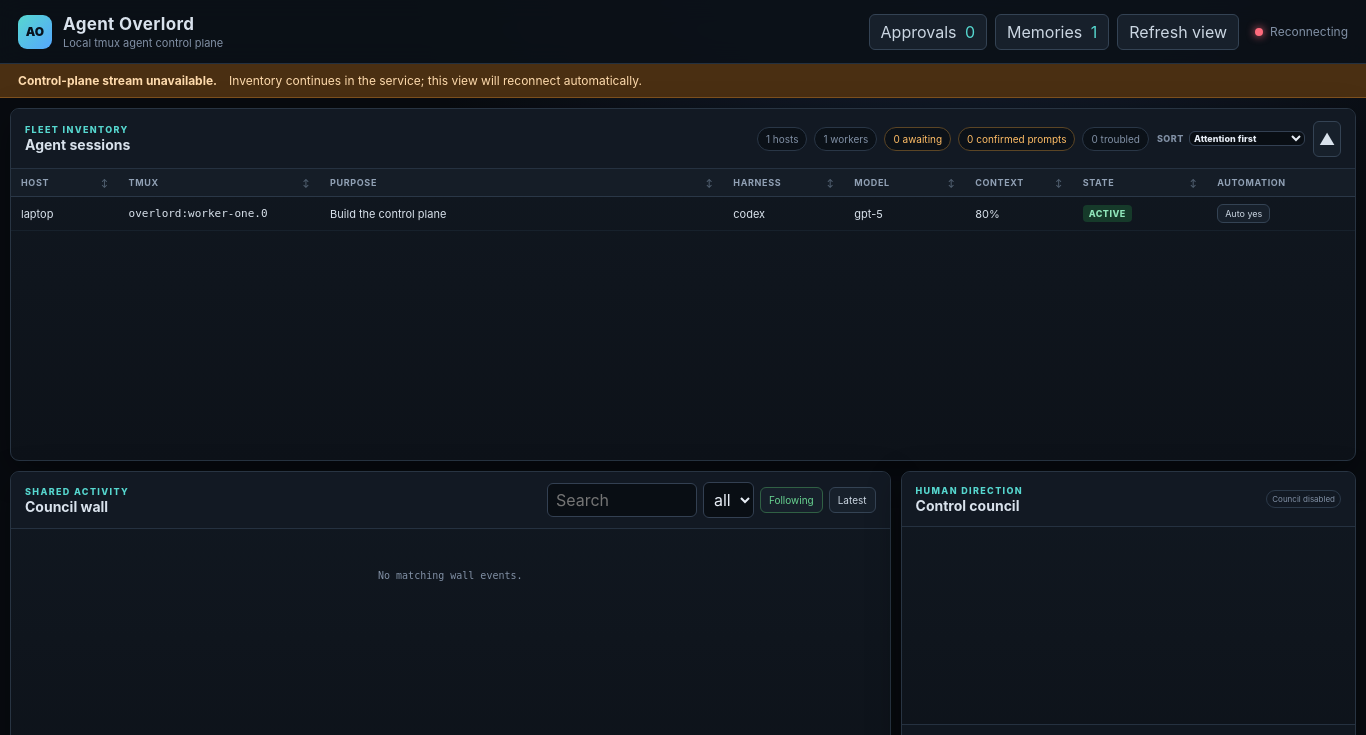
council memory candidates are visible and can be activated
This screenshot has width=1366, height=735.
Click the button "Memories 1" at (1052, 32), box [995,14,1109,50]
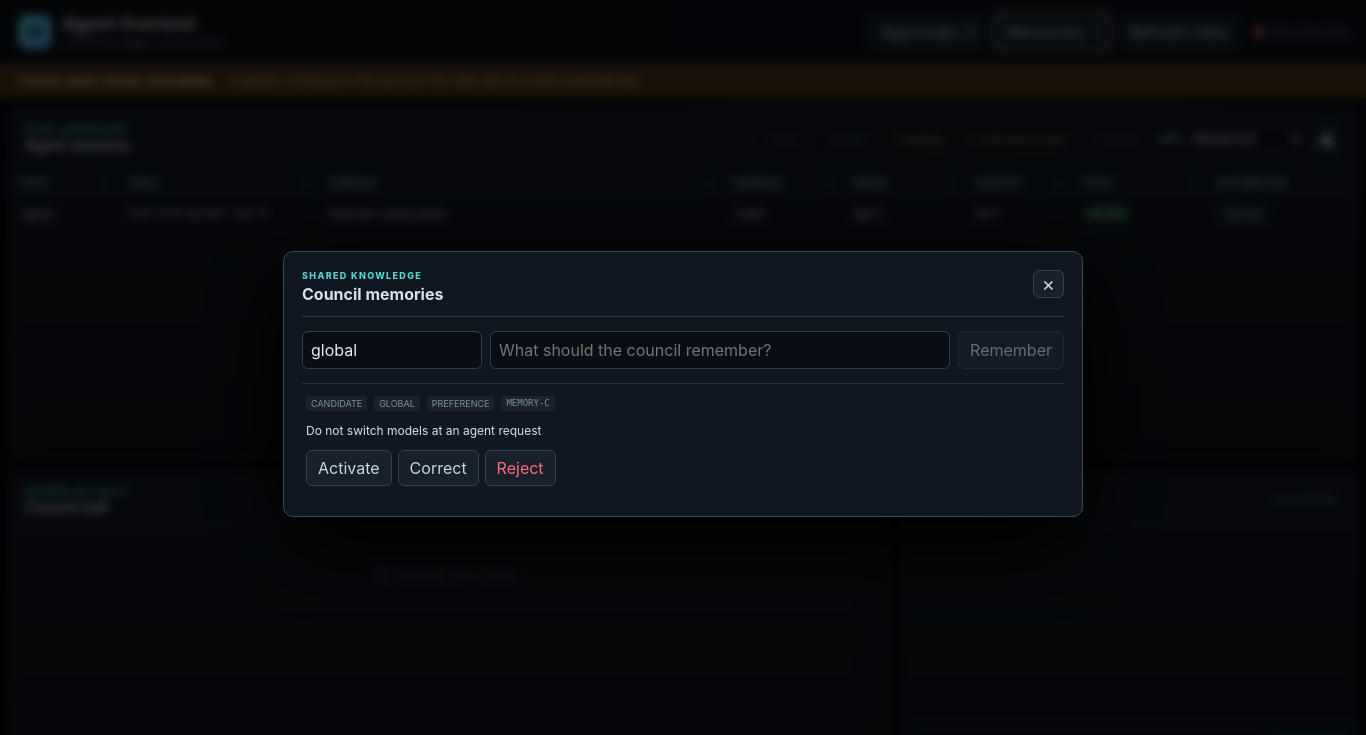
Expected: the dialog "Council memories" shows "candidate", [311,398,362,409]
Expected: the text "Do not switch models at an agent request" is shown, [306,423,541,438]
Click the button "Activate" at (349, 468), box [306,450,392,486]
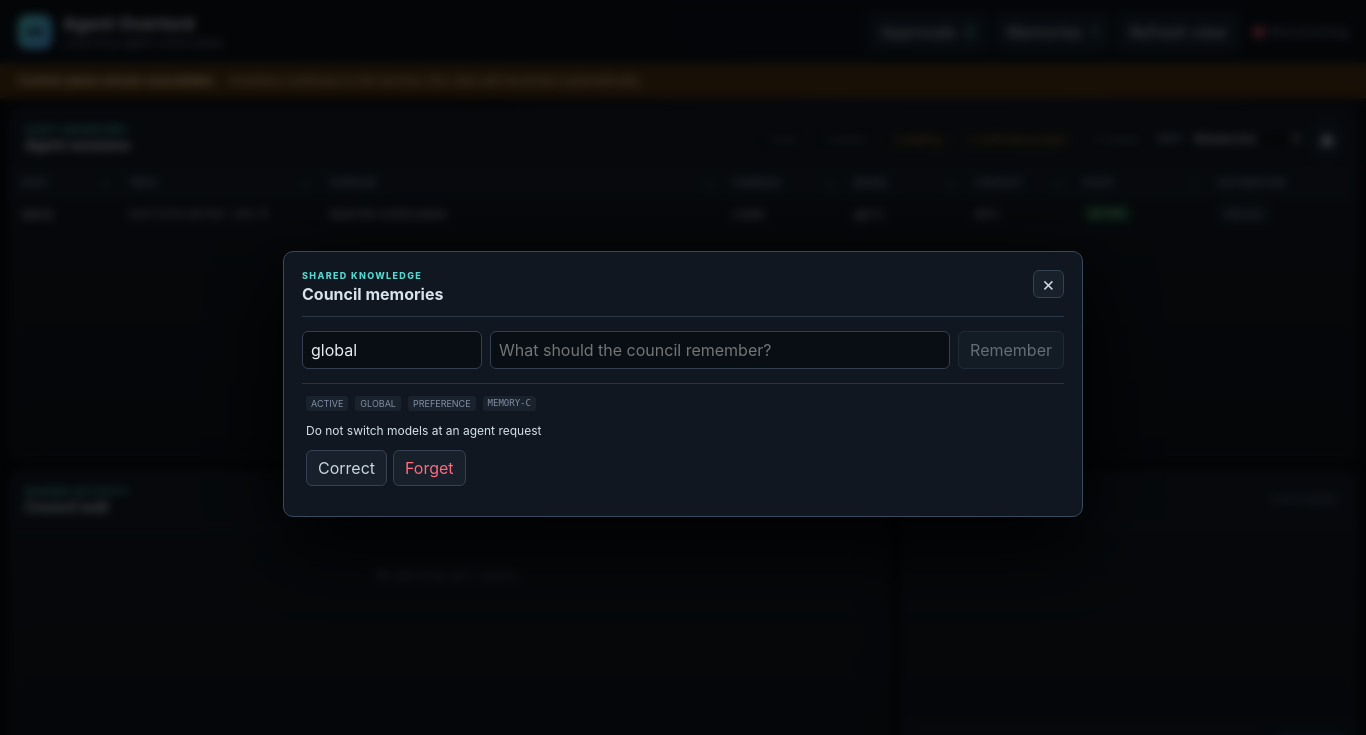
Expected: the dialog "Council memories" shows "active", [311,398,343,409]
